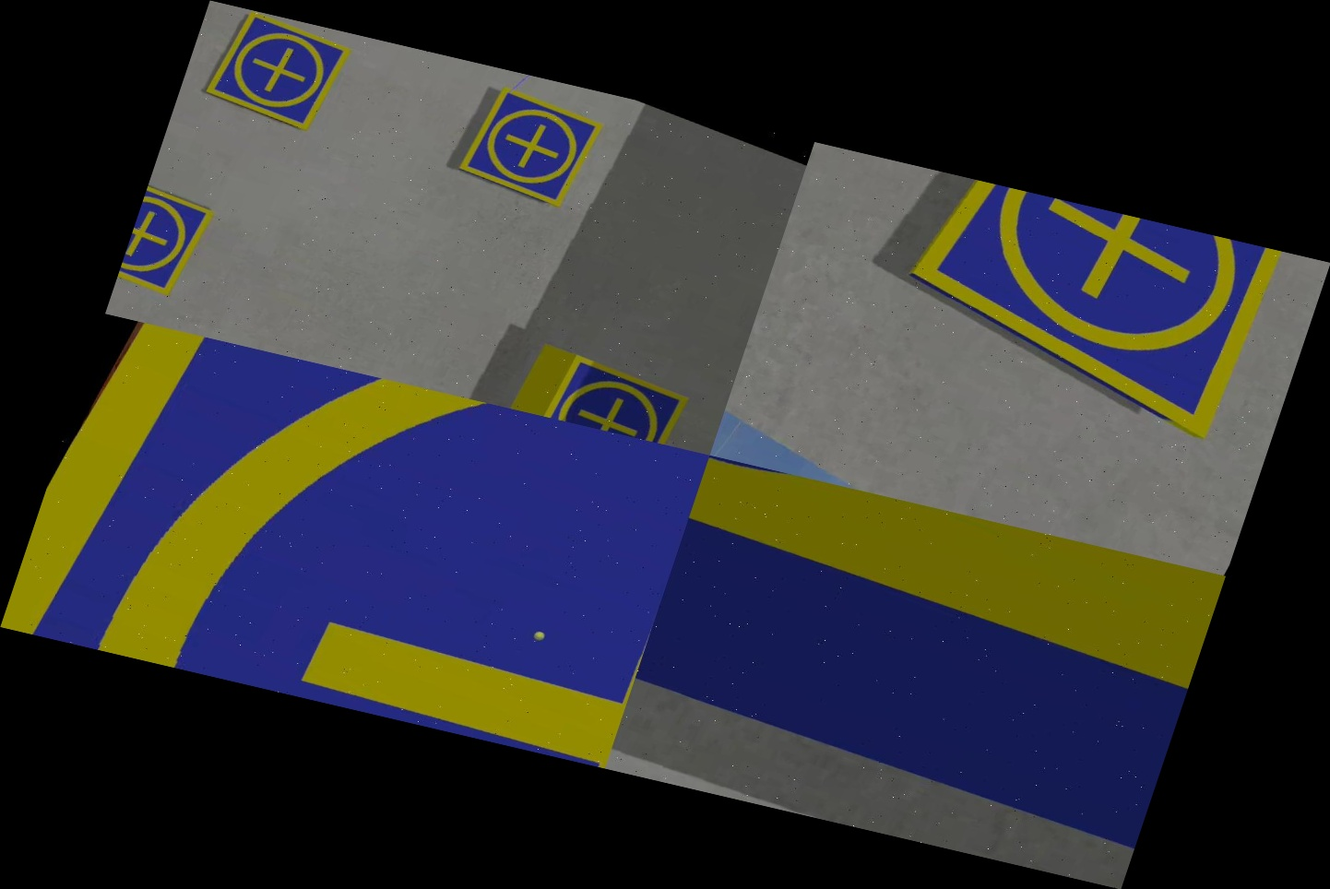large_base: (605, 456, 1225, 889)
small_base: (0, 314, 709, 768), (868, 170, 1323, 456), (453, 81, 611, 212), (201, 8, 355, 136), (534, 348, 698, 447), (115, 181, 223, 301)
